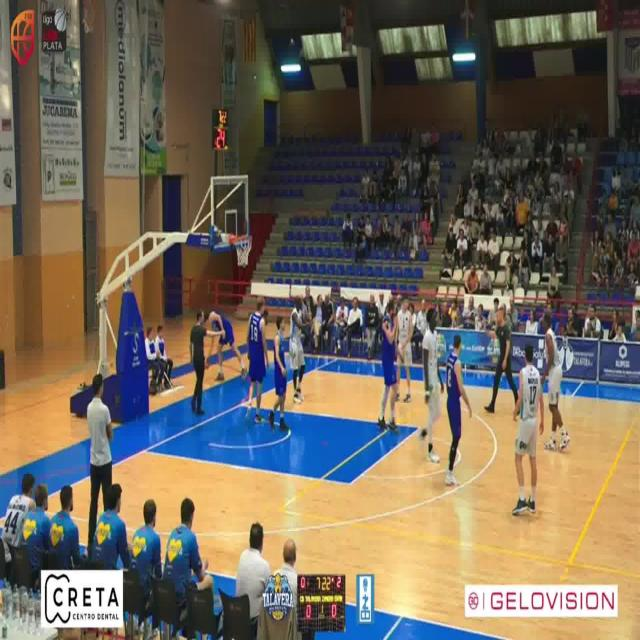ball: (204, 354, 210, 368)
basket: (230, 233, 251, 266)
bench person: (86, 373, 112, 558)
player: (513, 343, 545, 516), (446, 334, 473, 486), (542, 311, 571, 451), (419, 307, 445, 463), (246, 295, 269, 423), (206, 310, 247, 380), (378, 298, 398, 433), (268, 316, 289, 431), (289, 296, 311, 403), (396, 299, 413, 402)
referee: (485, 303, 519, 413), (190, 311, 207, 414)
